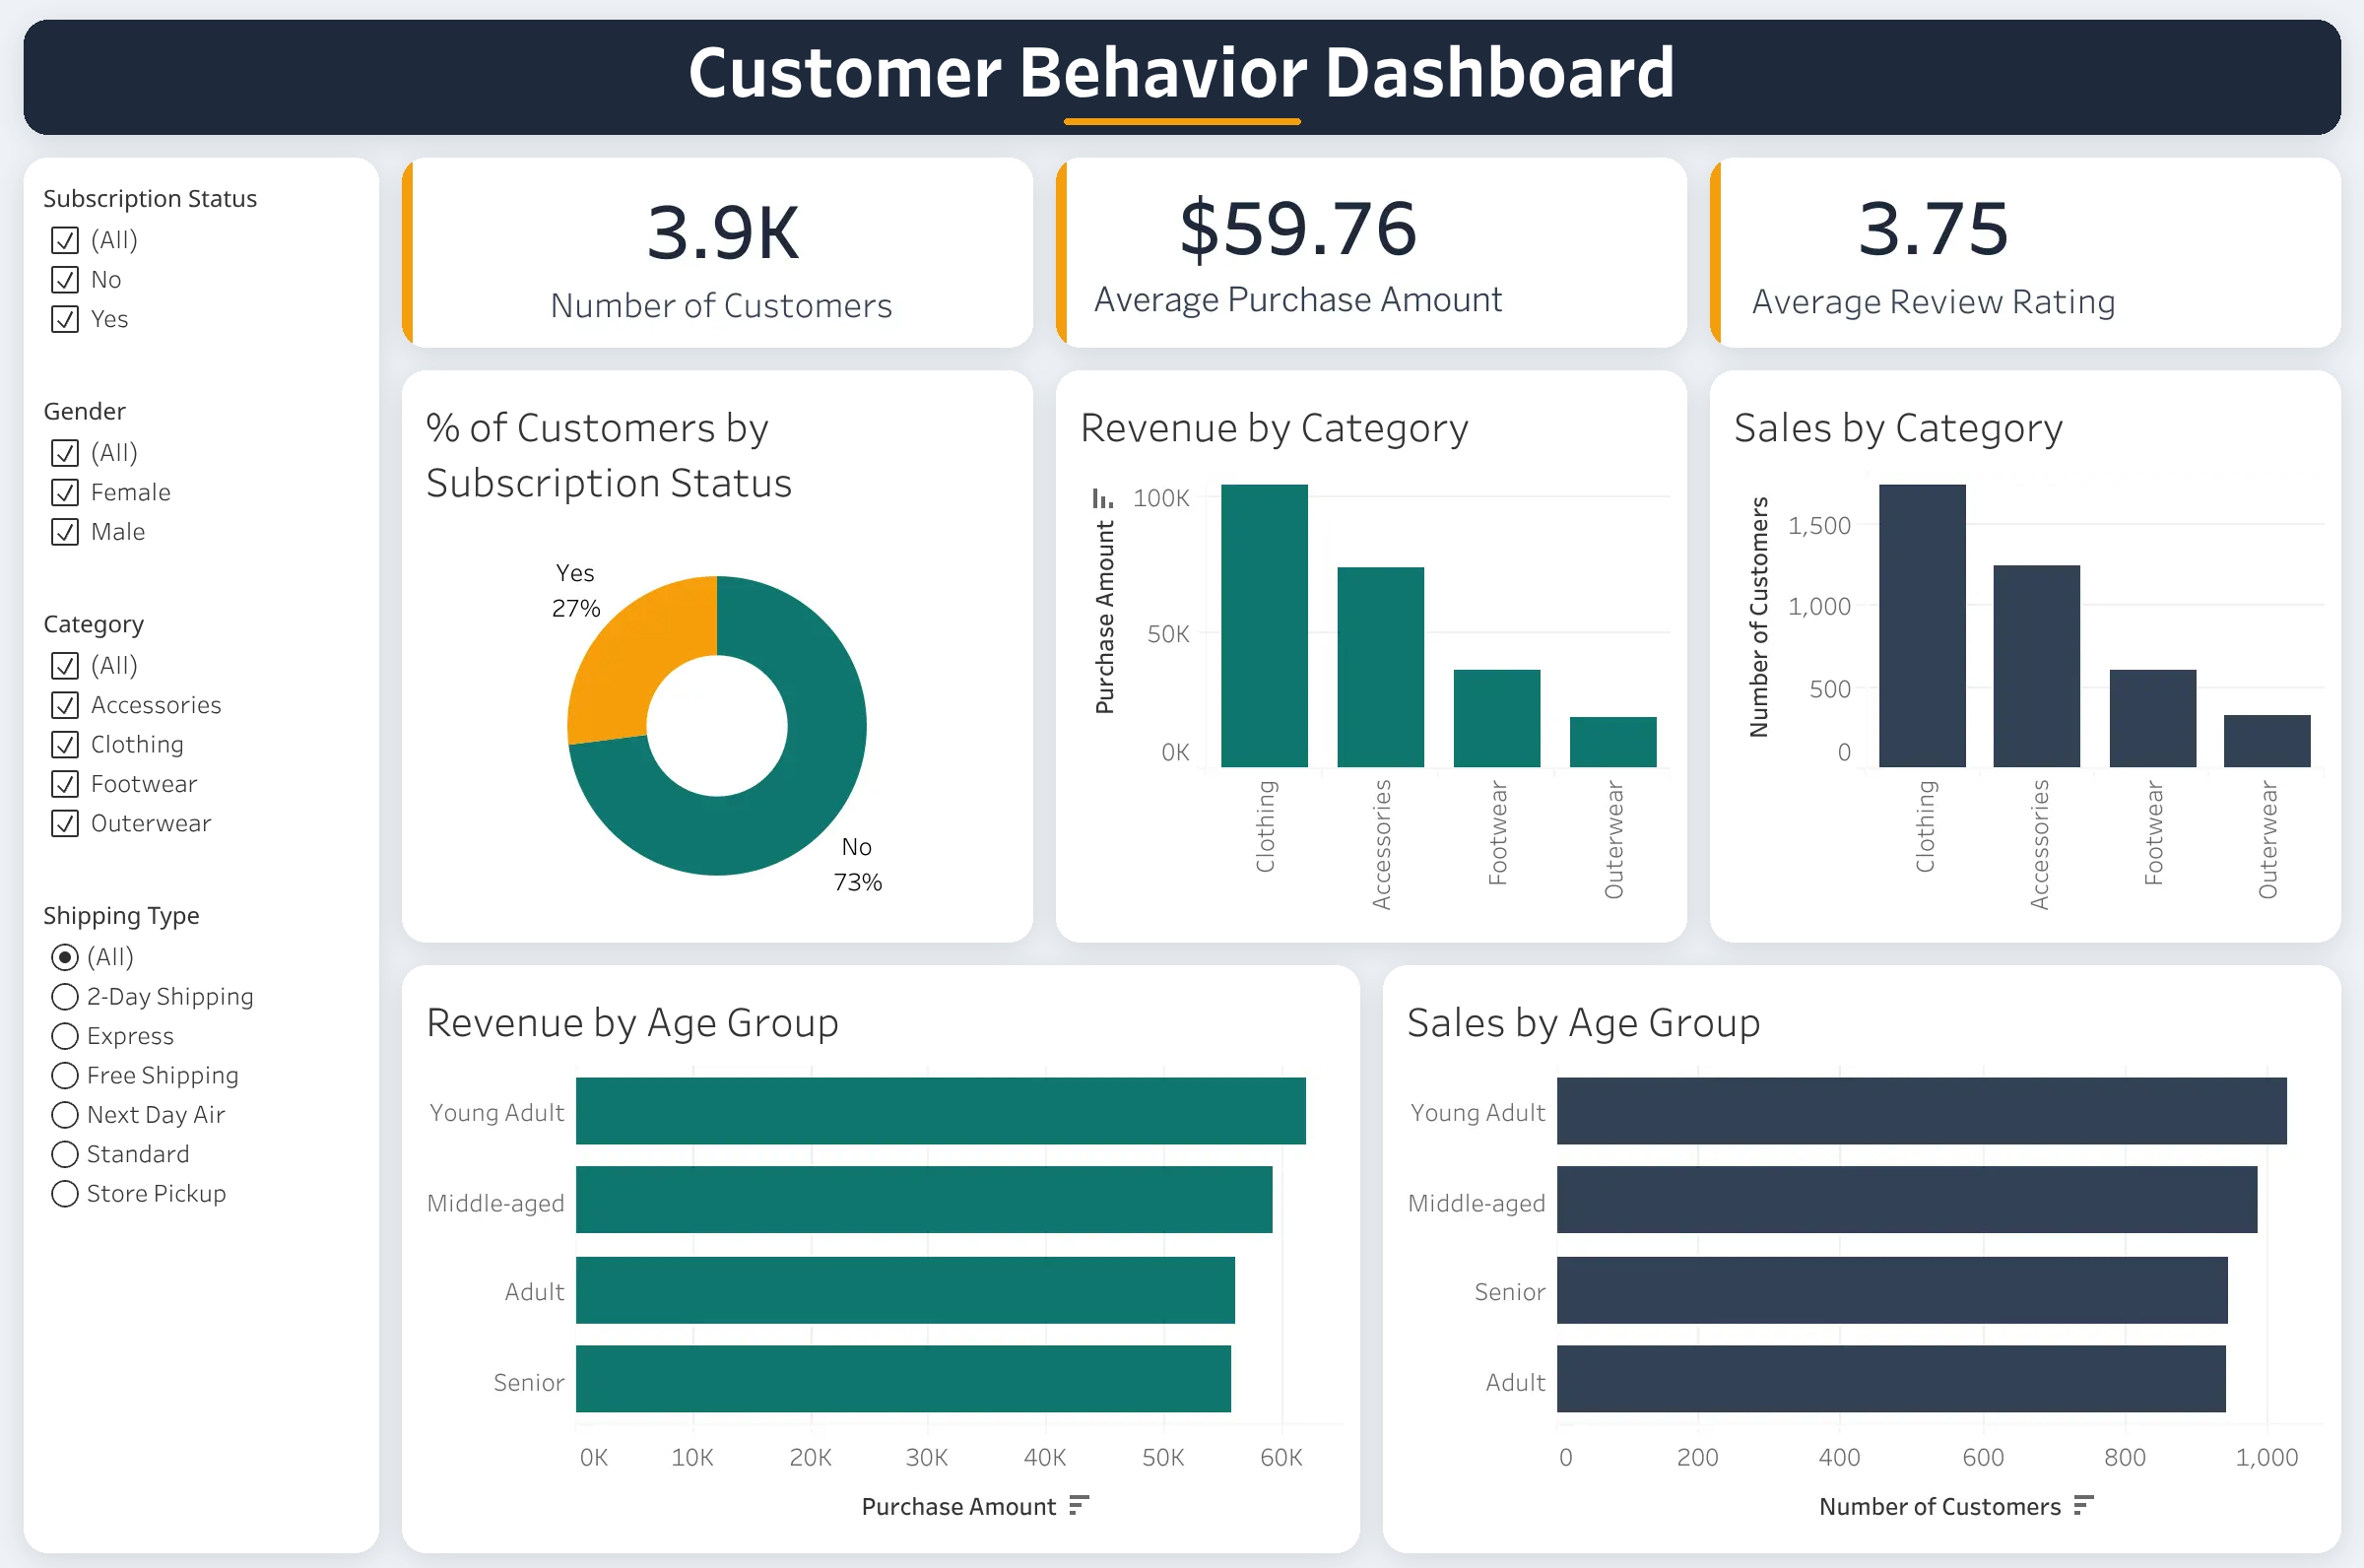

The page's visual inventory and layout, read from the dashboard file:
{"tool":"tableau","page":{"name":"Customer Behavior Dashboard","canvas":[1200,800],"ordinal":0},"visuals":[{"type":"image","param":"Image/dashboard_bg.png","box":[0,0,1200,800]},{"type":"text","box":[12,10,1176,42]},{"type":"worksheet","title":"KPI – Customers","mark":"Automatic","box":[218,88,298,80]},{"type":"worksheet","title":"KPI - Average Purchase","mark":"Automatic","box":[550,88,298,80]},{"type":"worksheet","title":"KPI - Average Rating","mark":"Automatic","box":[882,88,298,80]},{"type":"filter","title":"Revenue by Category","param":"[federated.1goga241wm40rp1crbyz91wkipq3].[none:subscription_status:nk]","box":[22,92,160,100]},{"type":"worksheet","title":"% of Customers by Subscription Status","mark":"Pie","rows":["Calculation_1773573896237019140","Calculation_1773573896237047814"],"box":[212,196,304,274]},{"type":"worksheet","title":"Revenue by Category","mark":"Automatic","rows":["purchase_amount"],"cols":["category"],"box":[544,196,304,274]},{"type":"worksheet","title":"Sales by Category","mark":"Automatic","rows":["Calculation_1773573896230125568"],"cols":["category"],"box":[876,196,304,274]},{"type":"filter","title":"Revenue by Category","param":"[federated.1goga241wm40rp1crbyz91wkipq3].[none:gender:nk]","box":[22,200,160,100]},{"type":"filter","title":"Revenue by Category","param":"[federated.1goga241wm40rp1crbyz91wkipq3].[none:category:nk]","box":[22,308,160,140]},{"type":"filter","title":"Revenue by Category","param":"[federated.1goga241wm40rp1crbyz91wkipq3].[none:shipping_type:nk]","box":[22,456,160,200]},{"type":"worksheet","title":"Revenue by Age Group","mark":"Automatic","rows":["age_group"],"cols":["purchase_amount"],"box":[212,498,470,282]},{"type":"worksheet","title":"Sales by Age Group","mark":"Automatic","rows":["age_group"],"cols":["Calculation_1773573896230125568"],"box":[710,498,470,282]}]}

Visuals, with their boxes in screenshot pixels (x1, y1, x2, y2), scaled from the page's 1200x800 canvas onto the 2364x1568 screenshot:
image: 0 0 2363 1567
text: 24 20 2340 101
"KPI – Customers" worksheet: 429 172 1017 329
"KPI - Average Purchase" worksheet: 1083 172 1671 329
"KPI - Average Rating" worksheet: 1738 172 2325 329
"Revenue by Category" filter: 43 180 359 376
"% of Customers by Subscription Status" worksheet (Pie marks): 418 384 1017 921
"Revenue by Category" worksheet: 1072 384 1671 921
"Sales by Category" worksheet: 1726 384 2325 921
"Revenue by Category" filter: 43 392 359 588
"Revenue by Category" filter: 43 604 359 879
"Revenue by Category" filter: 43 893 359 1285
"Revenue by Age Group" worksheet: 418 976 1344 1529
"Sales by Age Group" worksheet: 1399 976 2325 1529
